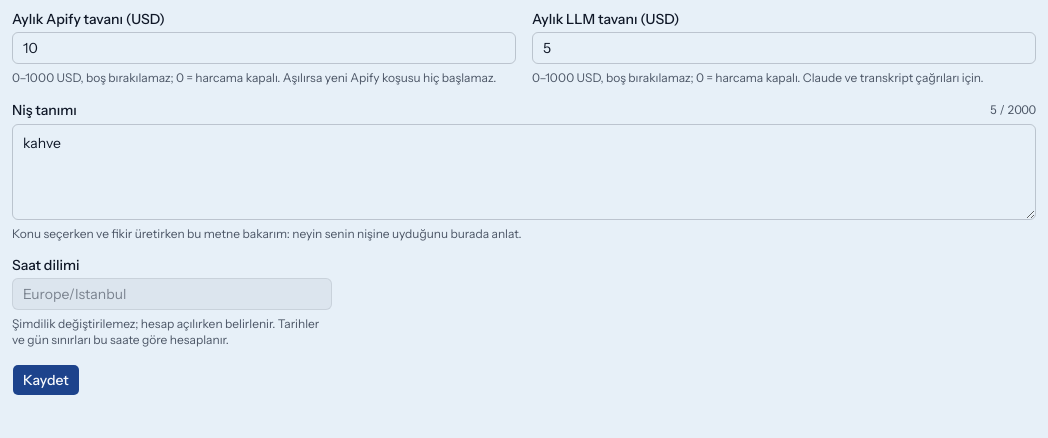
it: WorkspaceForm: tavan zorunlu › tavan alanı boş bırakılınca kaydetmez, Türkçe hata gösterir (tavan kaldırılamaz)
The width and height of the screenshot is (1048, 438).
Clear the field labelled "Aylık Apify tavanı (USD)" at (264, 48), box 12,32 -> 516,64
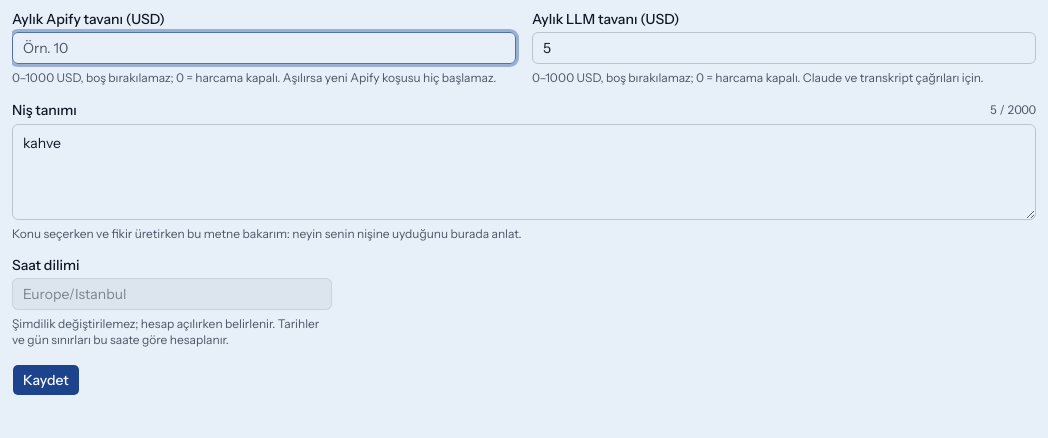
Click the button "Kaydet".
click(46, 380)  # box 12,364 -> 80,396
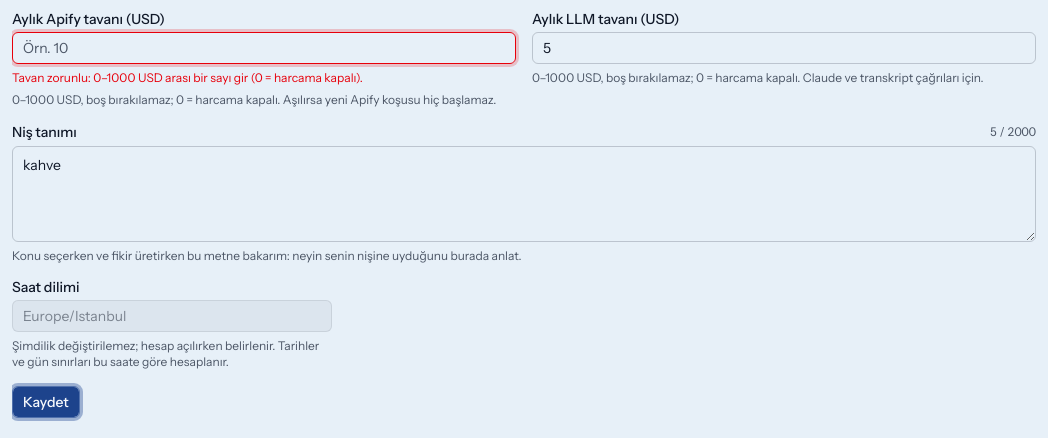
Expected: the text "Tavan zorunlu" is shown, 12,70 -> 363,85
